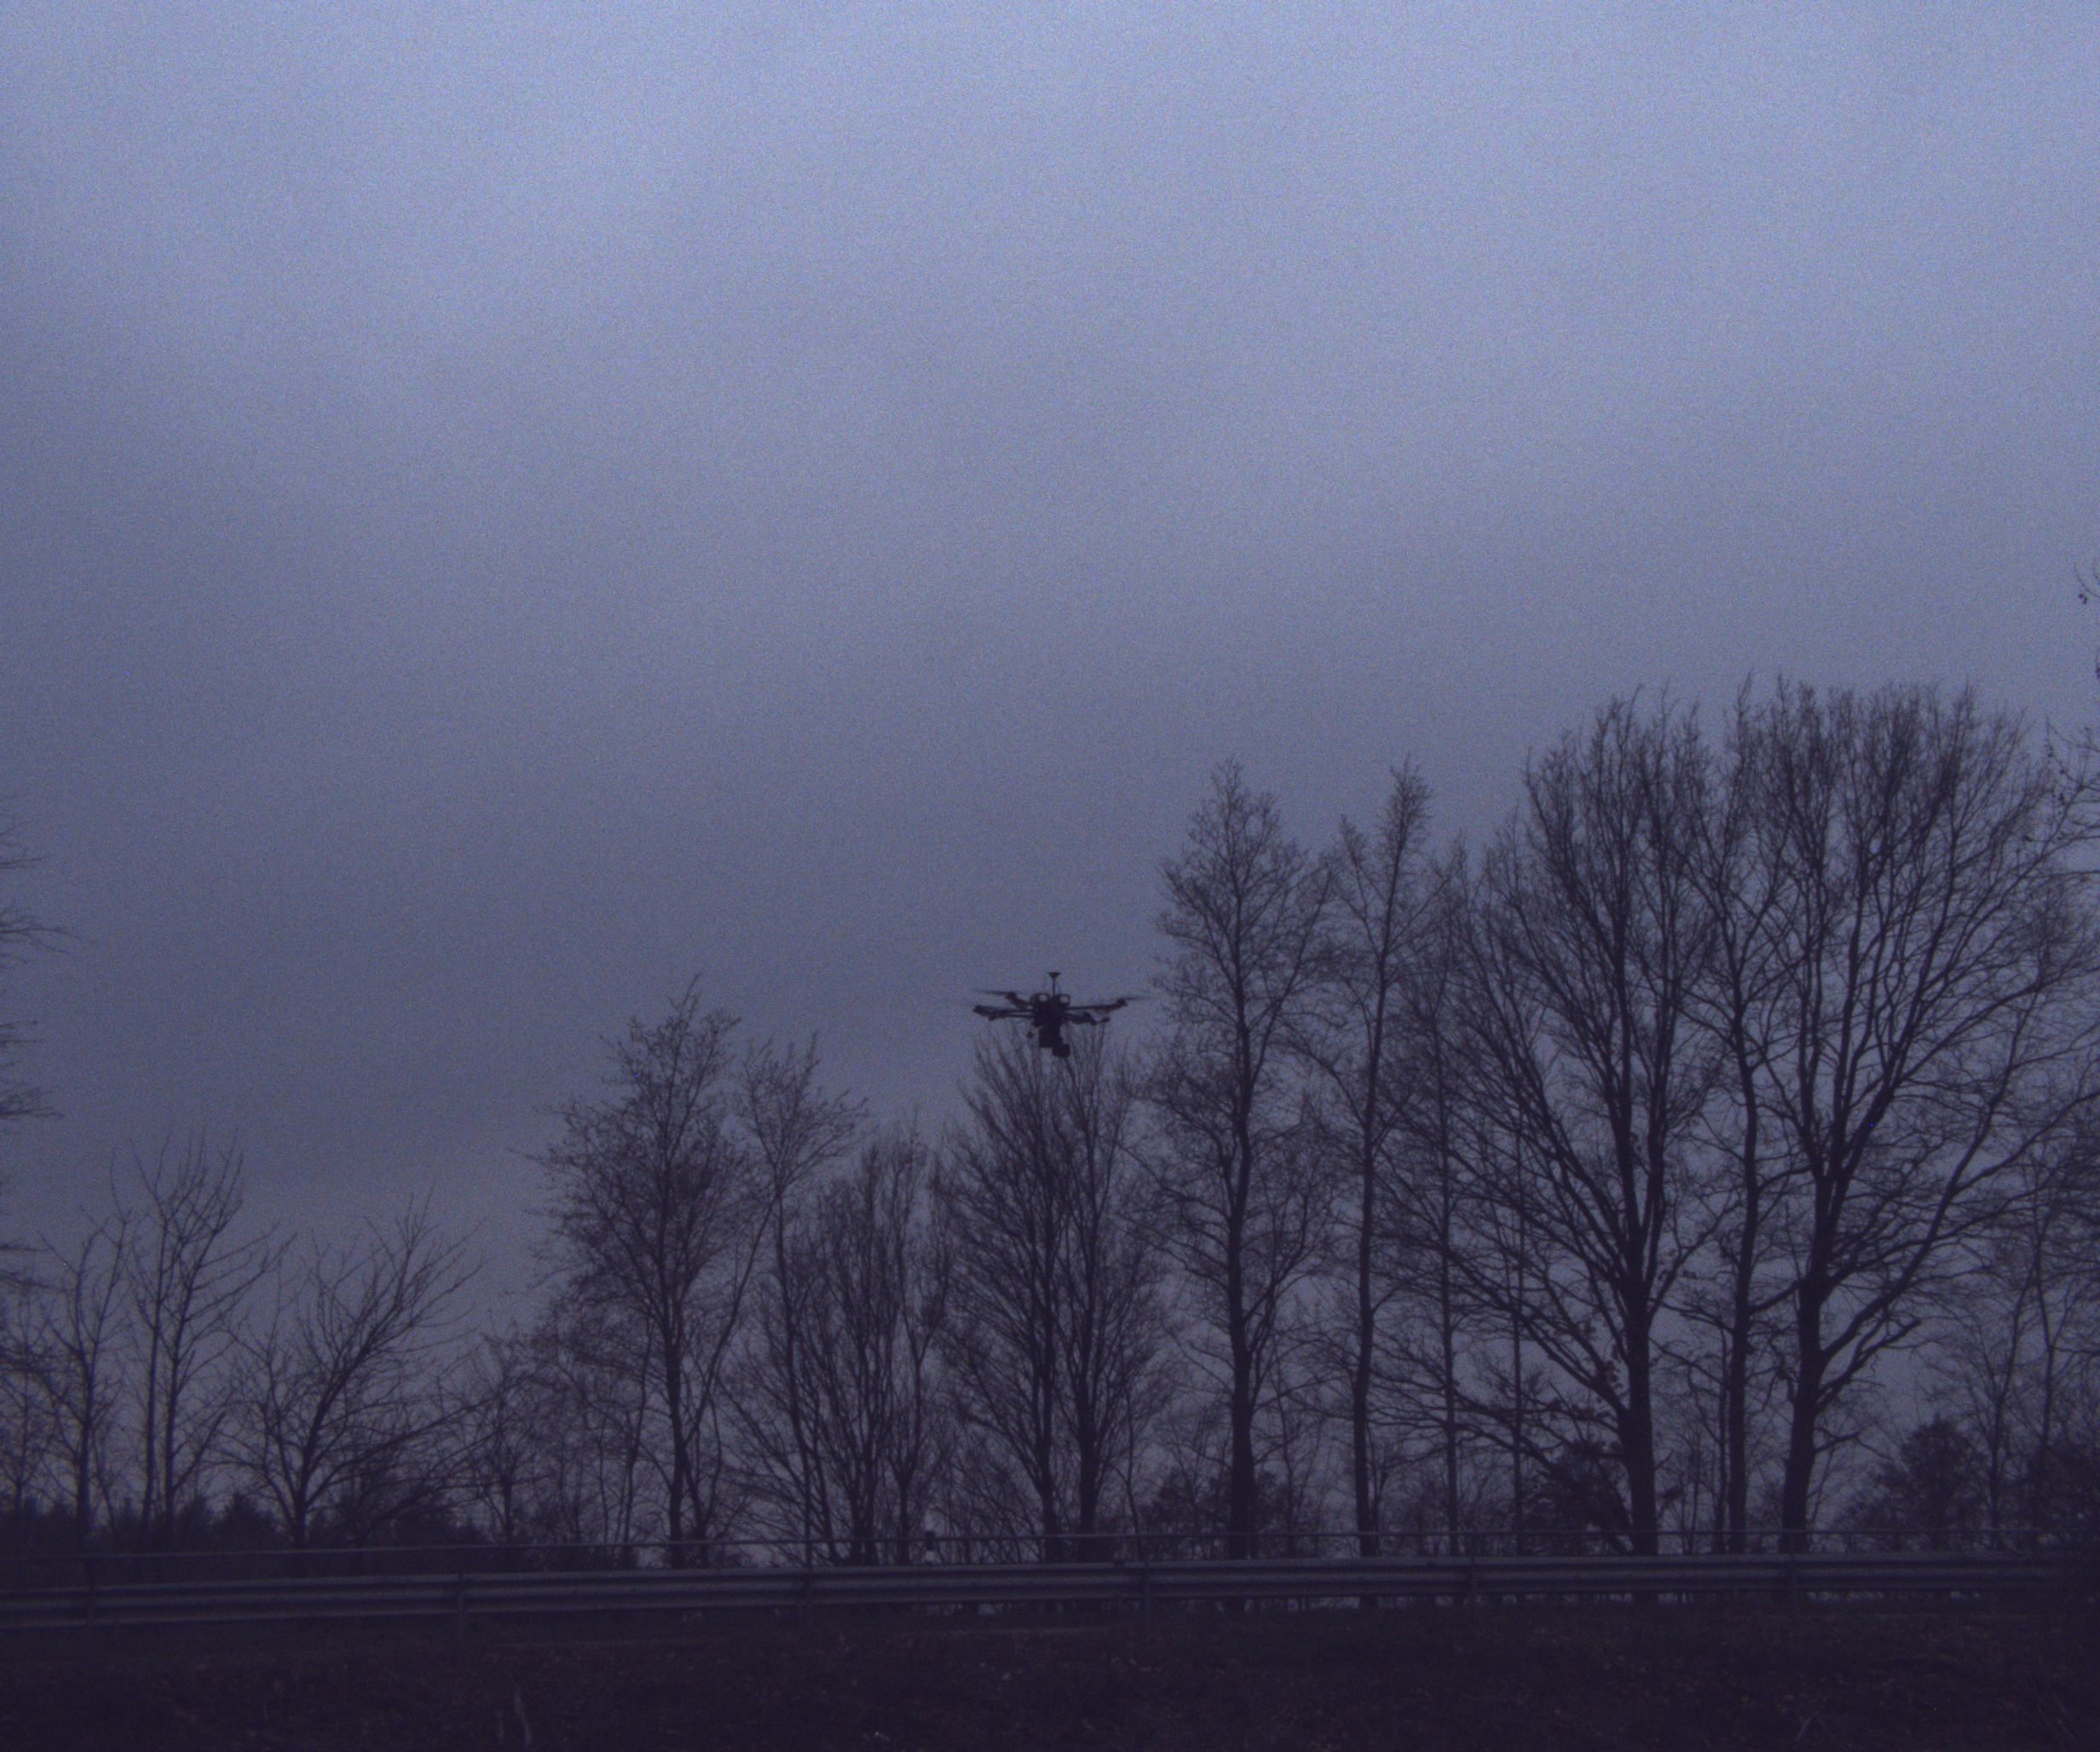Drohne: (972, 941, 1160, 1098)
